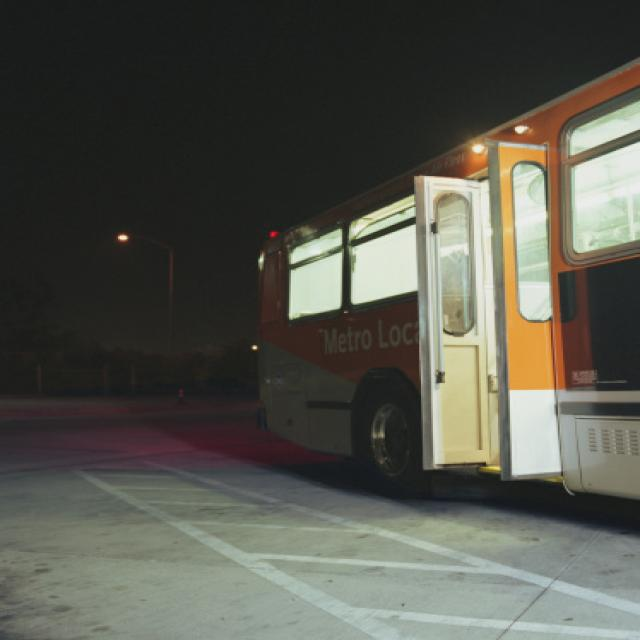Bus: (226, 115, 640, 498)
